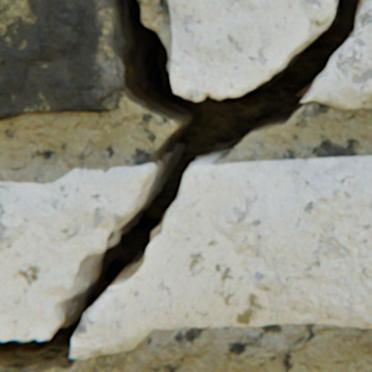brick: (0, 0, 123, 119)
broken_brick: (71, 155, 371, 357), (0, 163, 155, 340), (170, 0, 334, 100), (303, 0, 371, 109)
crack: (0, 0, 370, 371), (106, 170, 109, 178)
